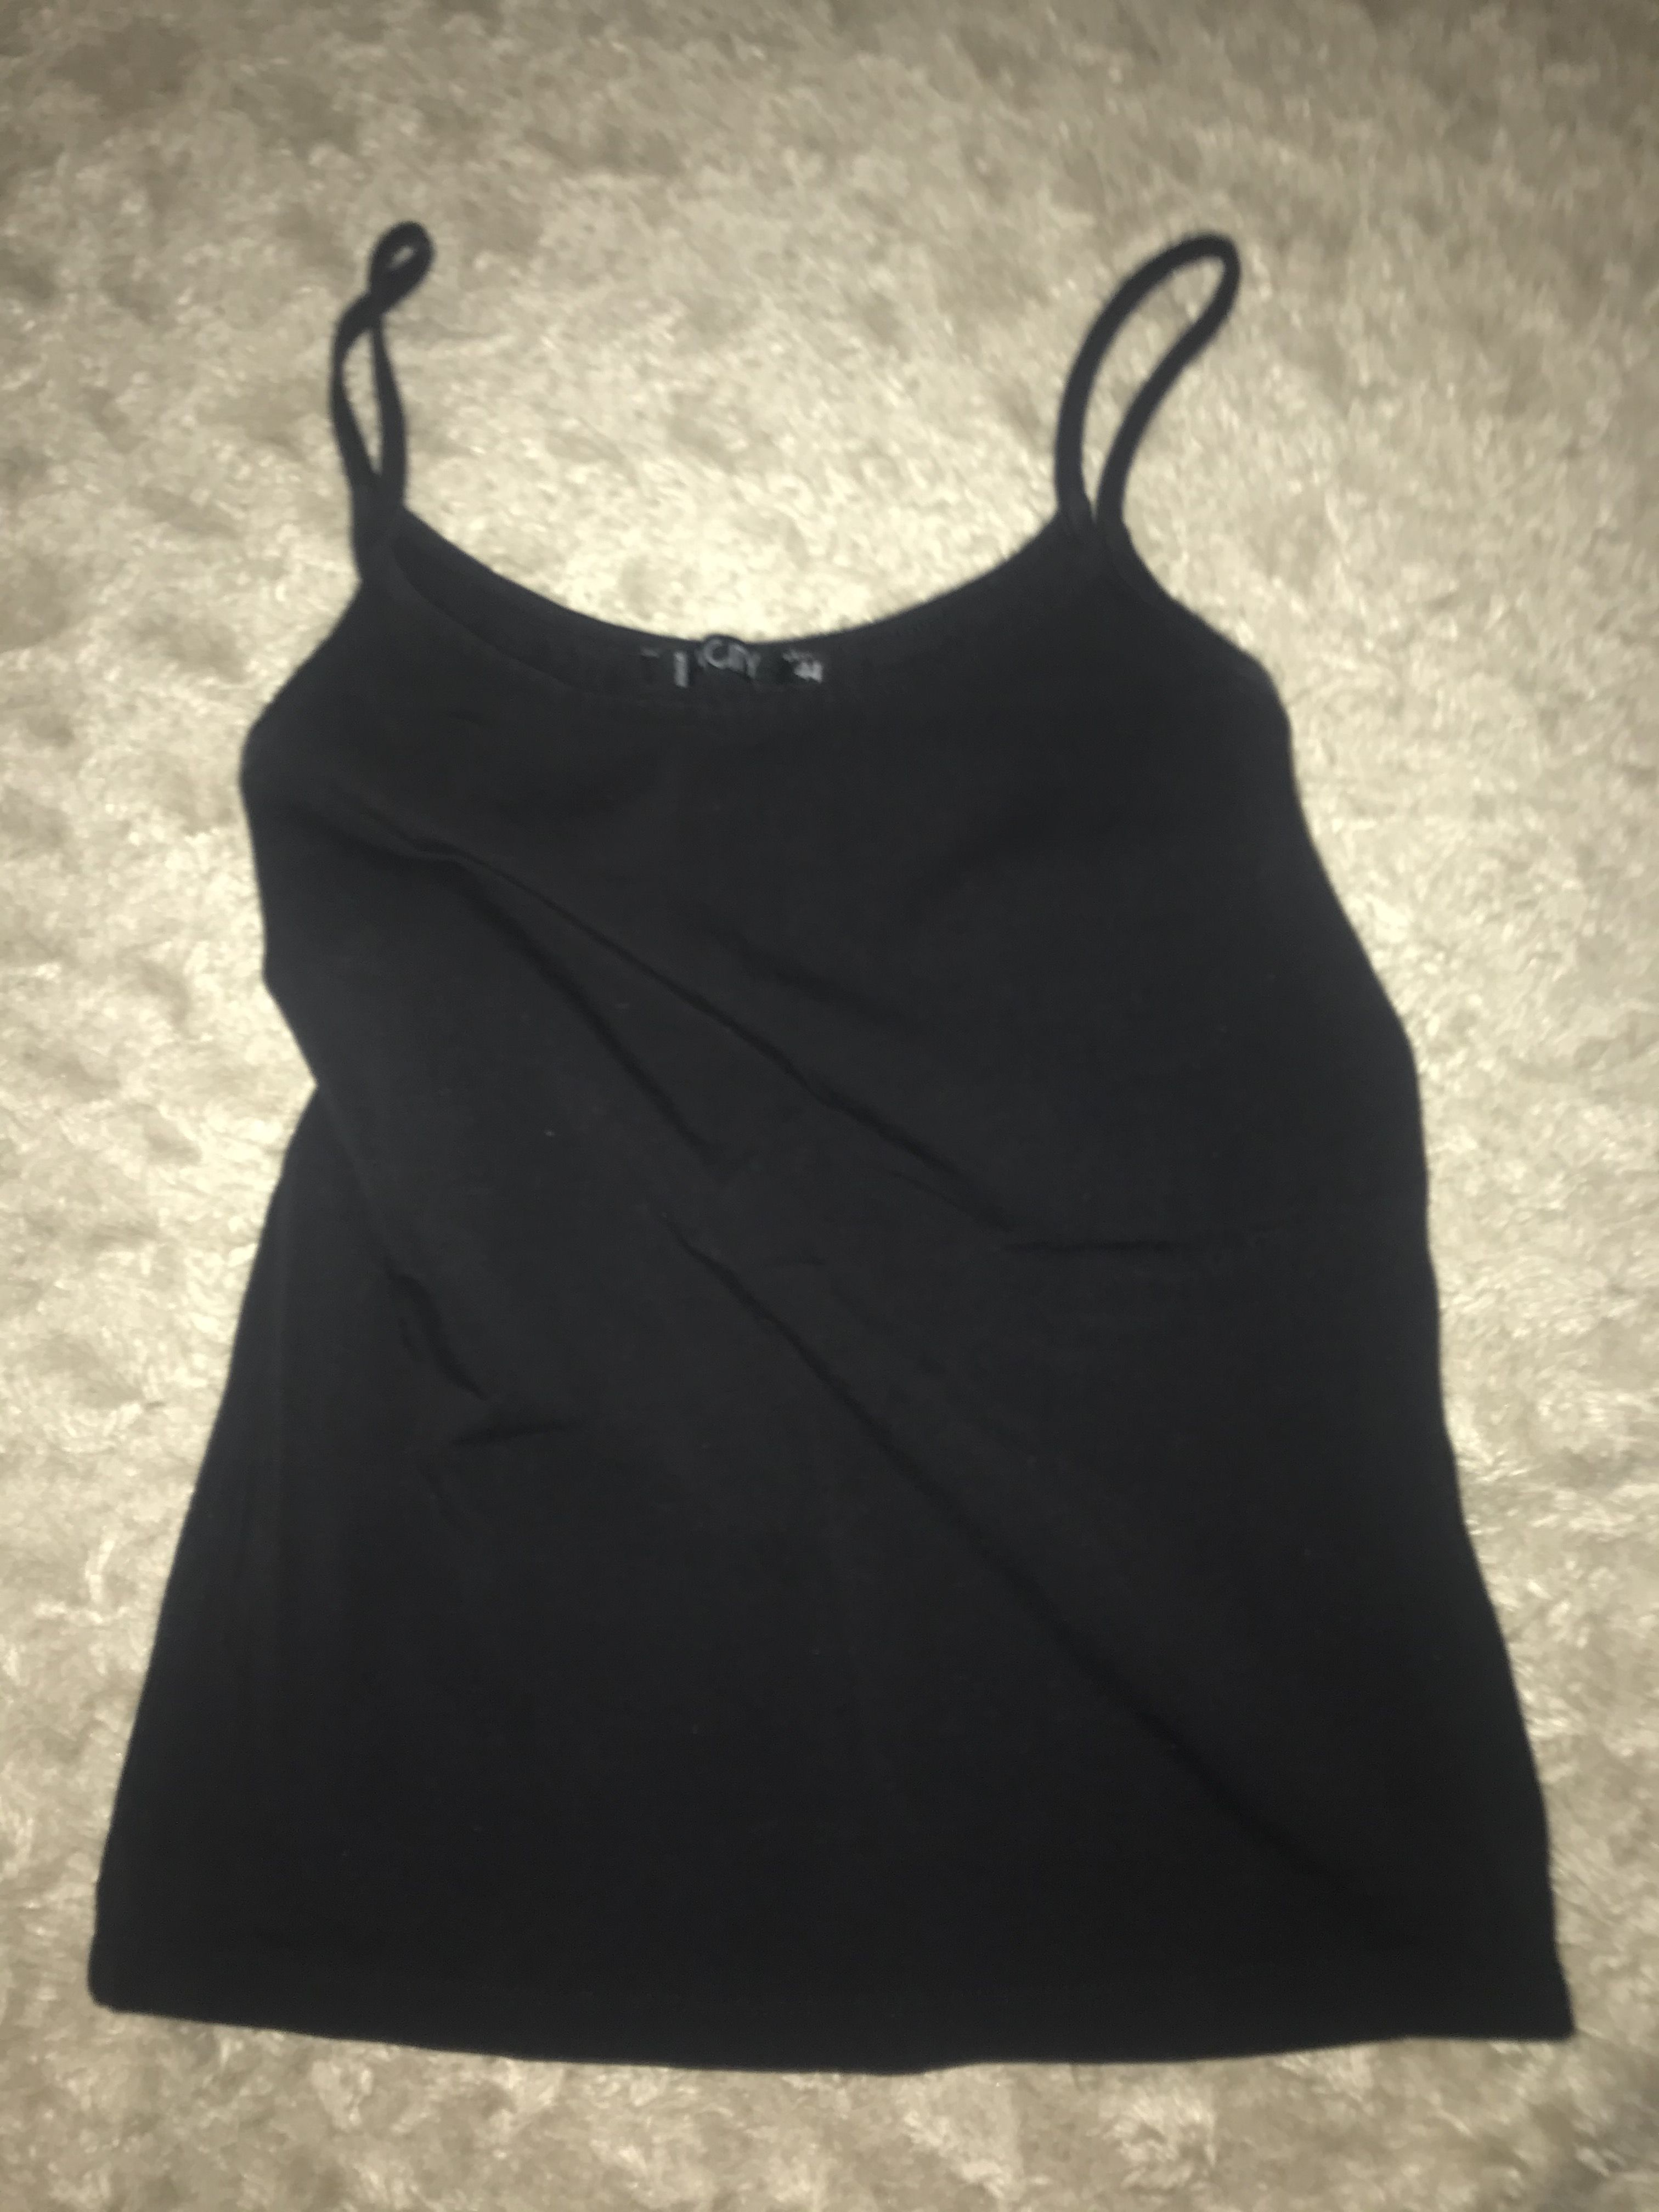clothes: (89, 230, 1575, 2050)
